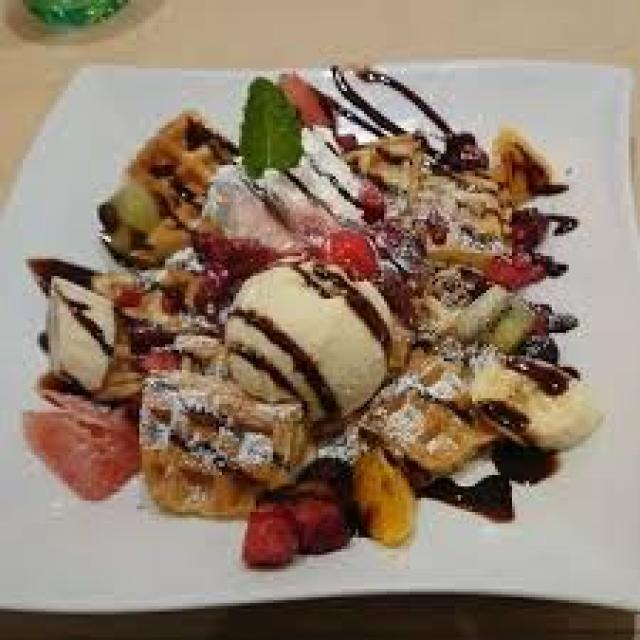food_waste: (23, 68, 594, 566)
